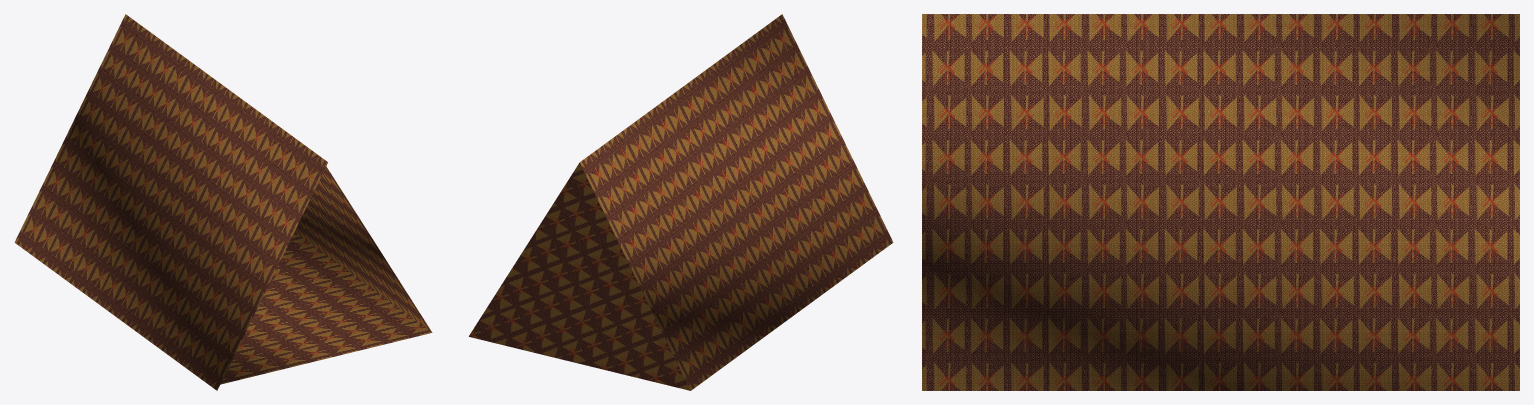
File: tent.gltf
3 renders of one model, left to right at view 1: azimuth 30°, elevation 25°; view 2: azimuth 150°, elevation 25°; view 3: azimuth 270°, elevation 25°, orthographic. The views are drawn at different scales.
Parts seen in each view (by area): view 1: Tent; view 2: Tent; view 3: Tent.
Boxes of the visible parts, x1=… form: Tent: x1=14, y1=14, x2=432, y2=390; Tent: x1=469, y1=14, x2=893, y2=390; Tent: x1=922, y1=14, x2=1519, y2=390.
Size of the model in its own units: 4.88 by 4.23 by 7.71.
3 materials, 3 textured.
